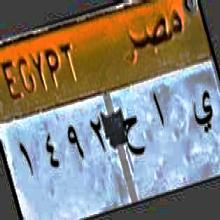1: (16, 138, 36, 189)
2: (89, 112, 106, 160)
4: (42, 126, 61, 178)
7aa: (121, 111, 146, 163)
9: (63, 120, 84, 165)
alif: (150, 87, 170, 140)
yaa: (189, 91, 215, 137)
